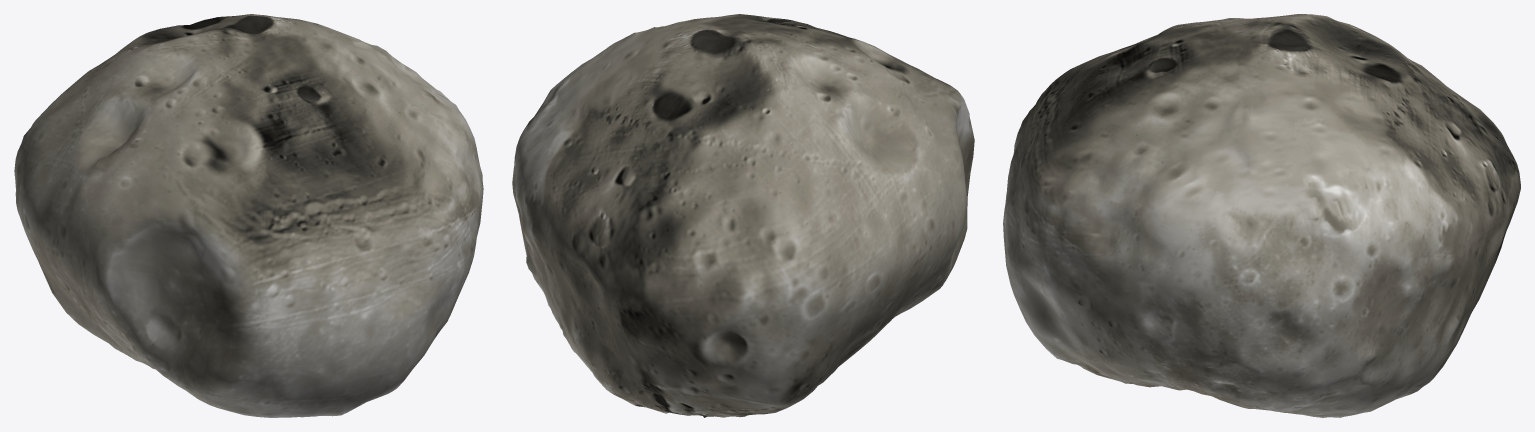
The model's file is phobos.glb.
3 renders of one model, left to right at view 1: azimuth 30°, elevation 25°; view 2: azimuth 150°, elevation 25°; view 3: azimuth 270°, elevation 25°, orthographic. The views are drawn at different scales.
Parts seen in each view (by area): view 1: phobos; view 2: phobos; view 3: phobos.
Boxes of the visible parts, x1,y1,x2,y2 form: phobos: (14,14,483,417); phobos: (512,14,974,417); phobos: (1003,14,1520,417).
Size of the model in its own units: 24.37 by 20.48 by 27.04.
Materials: 1 (1 with a texture image).
